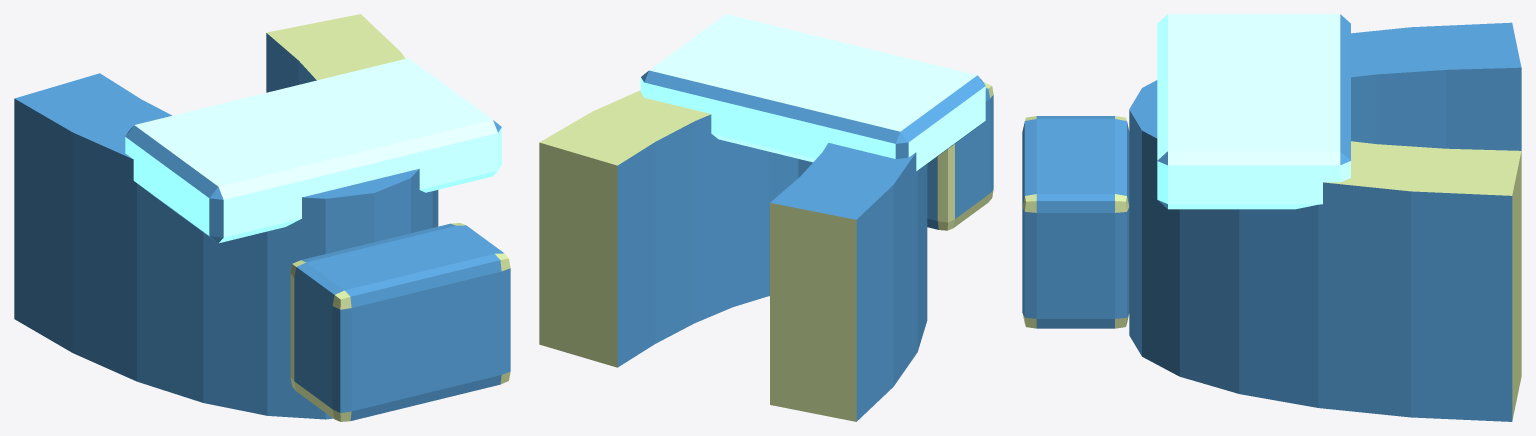
The model's file is left_hand.glb.
3 renders of one model, left to right at view 1: azimuth 30°, elevation 25°; view 2: azimuth 150°, elevation 25°; view 3: azimuth 270°, elevation 25°, orthographic. The views are drawn at different scales.
Parts seen in each view (by area): view 1: armor_left_hand_v001; view 2: armor_left_hand_v001; view 3: armor_left_hand_v001.
Boxes of the visible parts, x1,y1,x2,y2 form: armor_left_hand_v001: [14, 14, 510, 421]; armor_left_hand_v001: [539, 14, 993, 421]; armor_left_hand_v001: [1022, 14, 1521, 421].
Size of the model in its own units: 0.115 by 0.0783 by 0.14.
